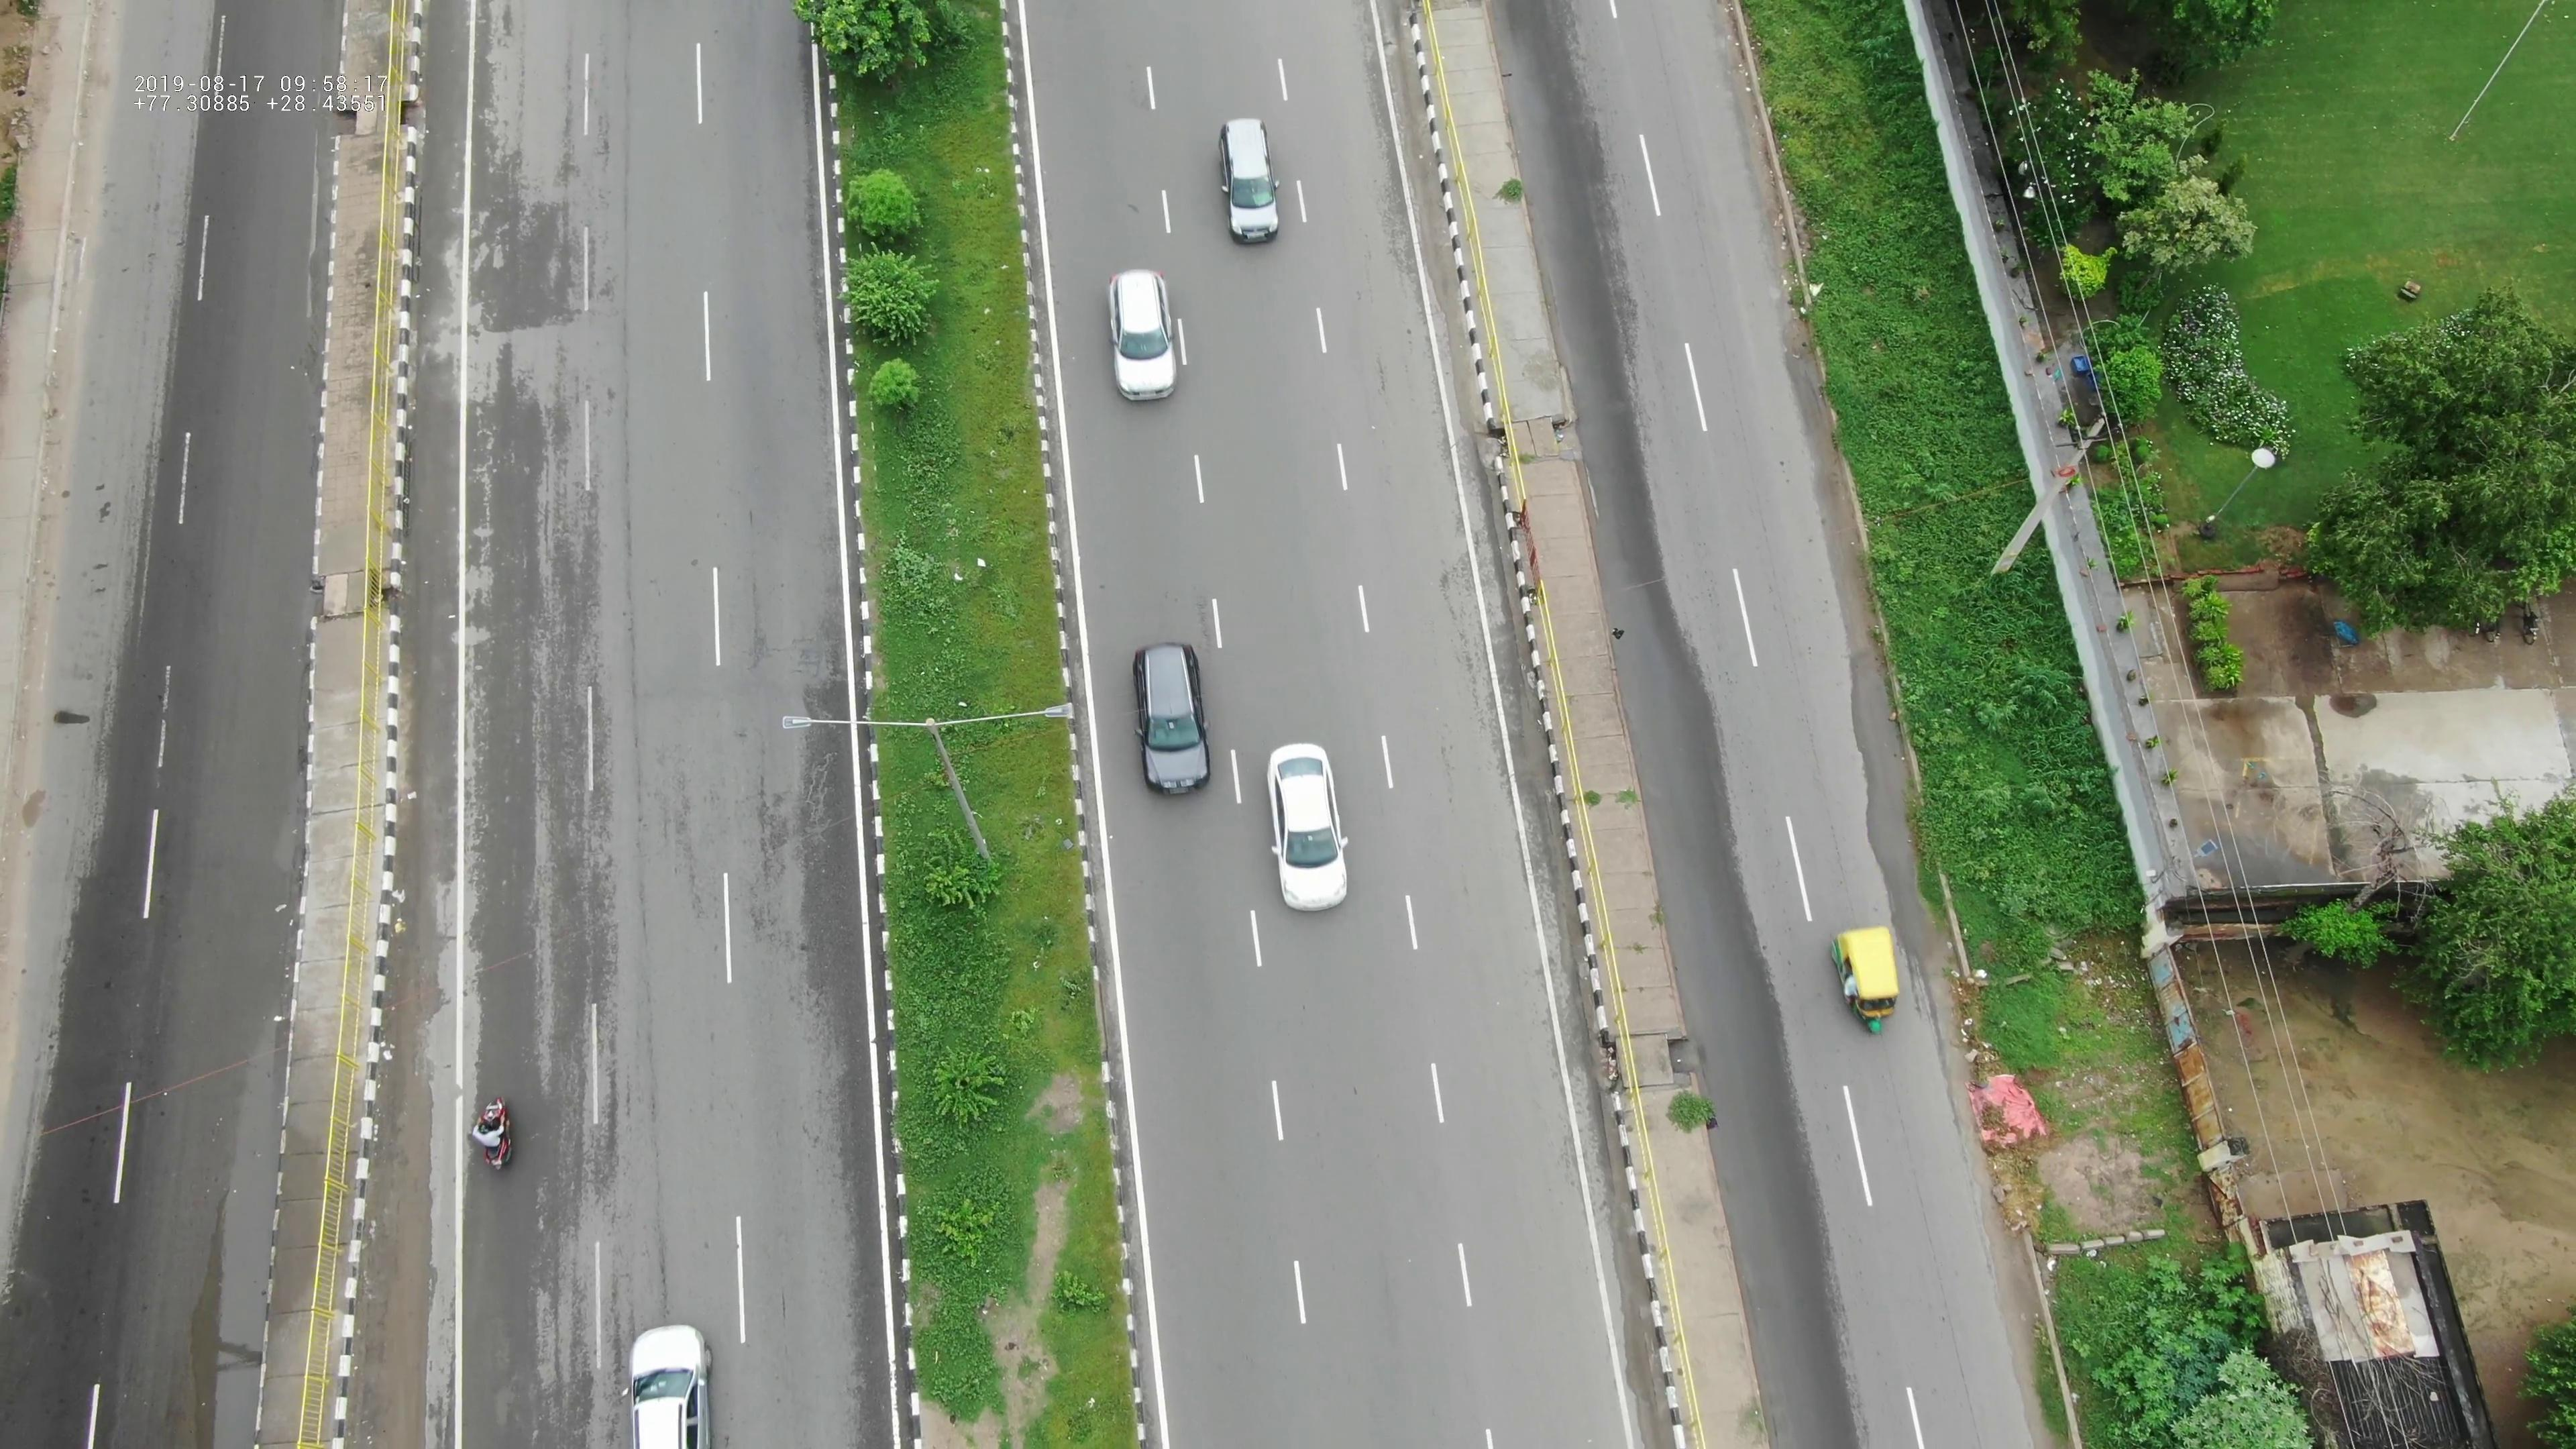Ravelling: (702, 708, 828, 993)
